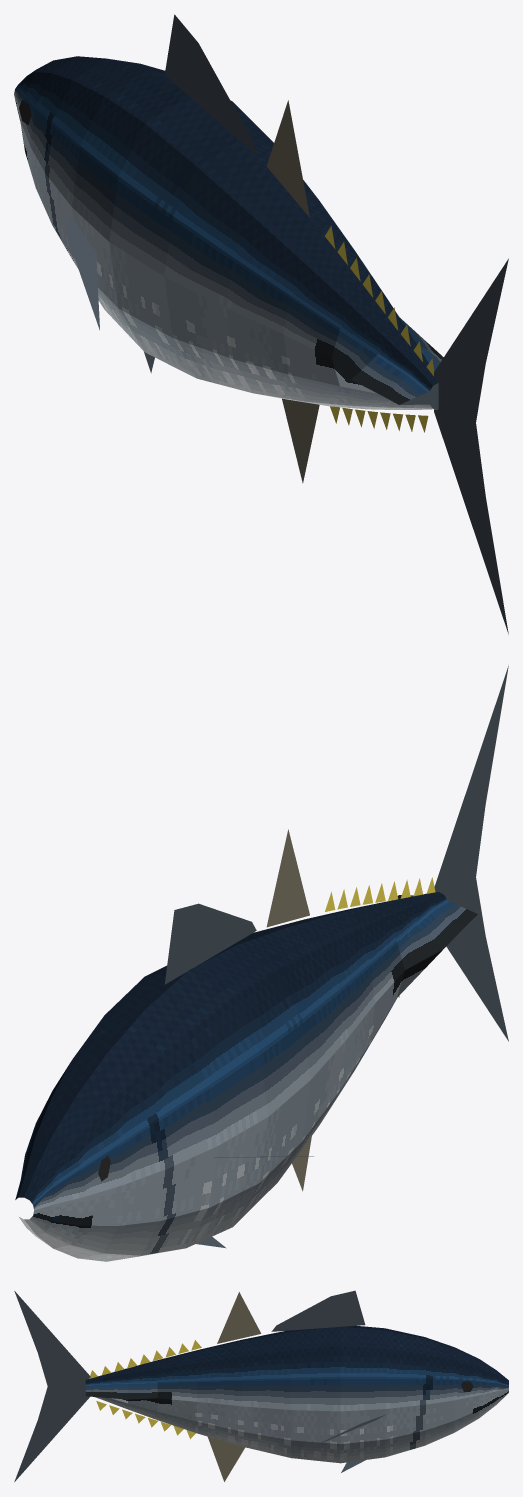
Rendered from bluefin.glb.
3 renders of one model, top to bottom at view 1: azimuth 30°, elevation 25°; view 2: azimuth 150°, elevation 25°; view 3: azimuth 270°, elevation 25°, orthographic. The views are drawn at different scales.
Visible parts, largest first — view 1: bluefin; view 2: bluefin; view 3: bluefin.
Part boxes in pixels (bbox=[...]): bluefin: bbox=[14, 14, 508, 633]; bluefin: bbox=[15, 666, 508, 1261]; bluefin: bbox=[14, 1290, 508, 1481].
Size of the model in its own units: 0.2922 by 0.43 by 1.
5 materials, 1 textured.
